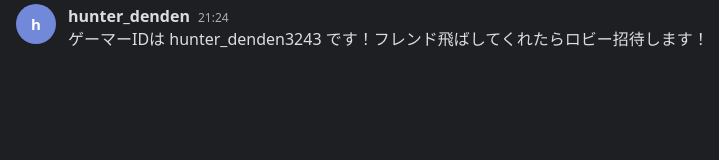
it: MessageRow の同一タブリンク › 投稿者名を押すとプロフィール内に記事一覧へのリンクを表示する
The image size is (719, 160).
What coordinates should you click on to do the following:
click the button "hunter_denden"
I would click on:
 (129, 16)
Its box is [68,4,190,28].
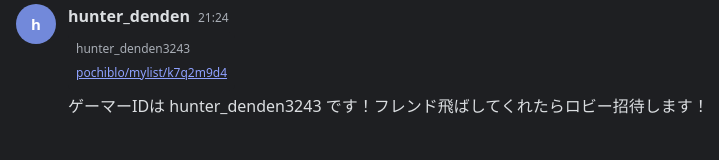
Expected: the text "hunter_denden3243" is shown, [76,40,190,57]
What coordinates should you click on to do the following:
click the button "hunter_denden"
I would click on:
 (129, 16)
Its box is [68,4,190,28].
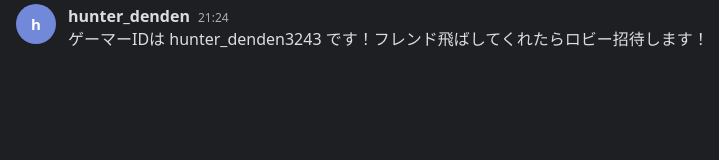
Expected: the link "pochiblo/mylist/k7q2m9d4" is gone
